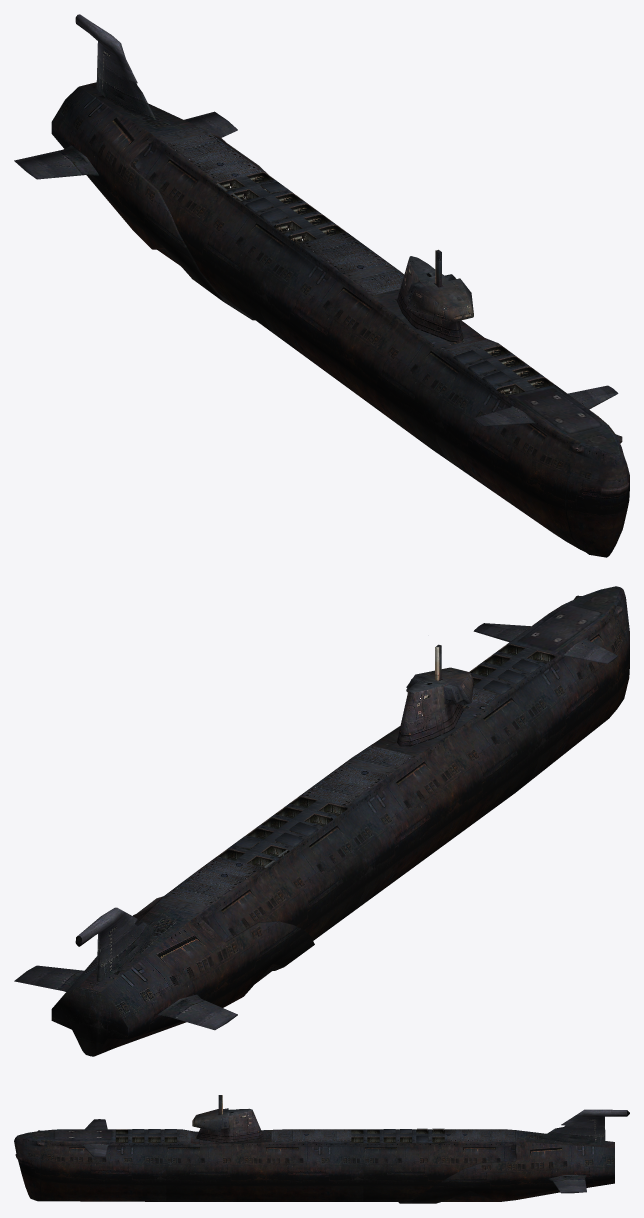
The model's file is submarine.FBX.
3 views of the same model, one above another, from view 1: azimuth 30°, elevation 25°; view 2: azimuth 150°, elevation 25°; view 3: azimuth 270°, elevation 25° (orthographic). The views are drawn at different scales.
Visible parts, largest first — view 1: S_Chap0_Submarine01; view 2: S_Chap0_Submarine01; view 3: S_Chap0_Submarine01.
Boxes of the visible parts, x1,y1,x2,y2 form: S_Chap0_Submarine01: (14,14,629,557); S_Chap0_Submarine01: (14,586,629,1056); S_Chap0_Submarine01: (14,1095,629,1203).
Bounding box in the file's own units: 2429 × 2321 × 11422.
